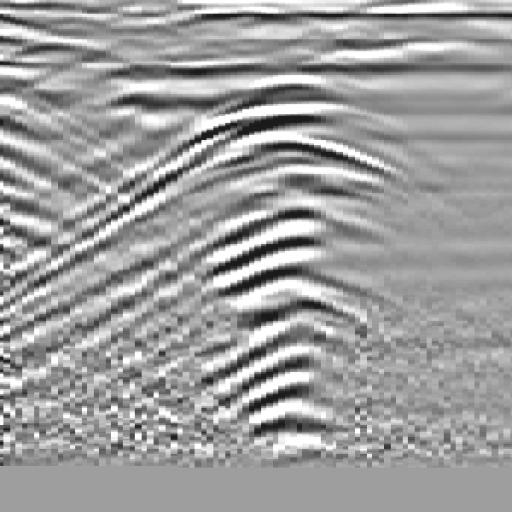metalic: (136, 77, 413, 463)
